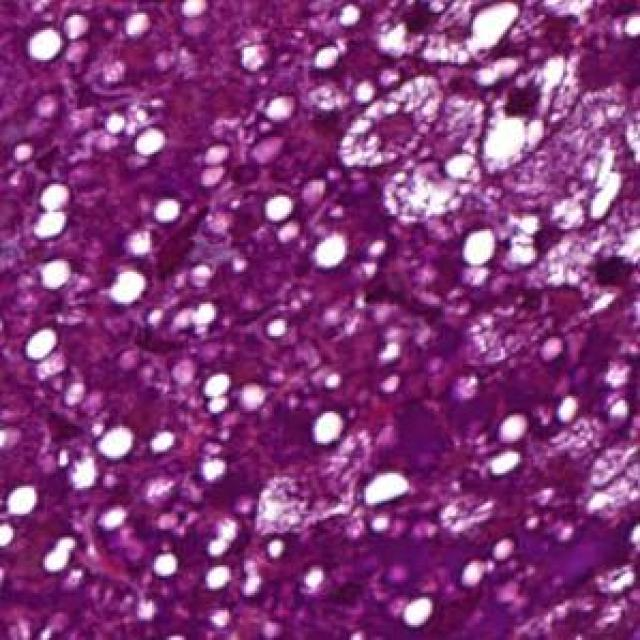ballooning: (479, 49, 588, 176), (332, 71, 452, 173)
